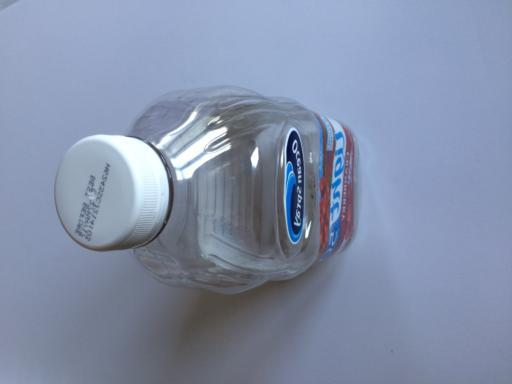plastic: (54, 80, 356, 297)
